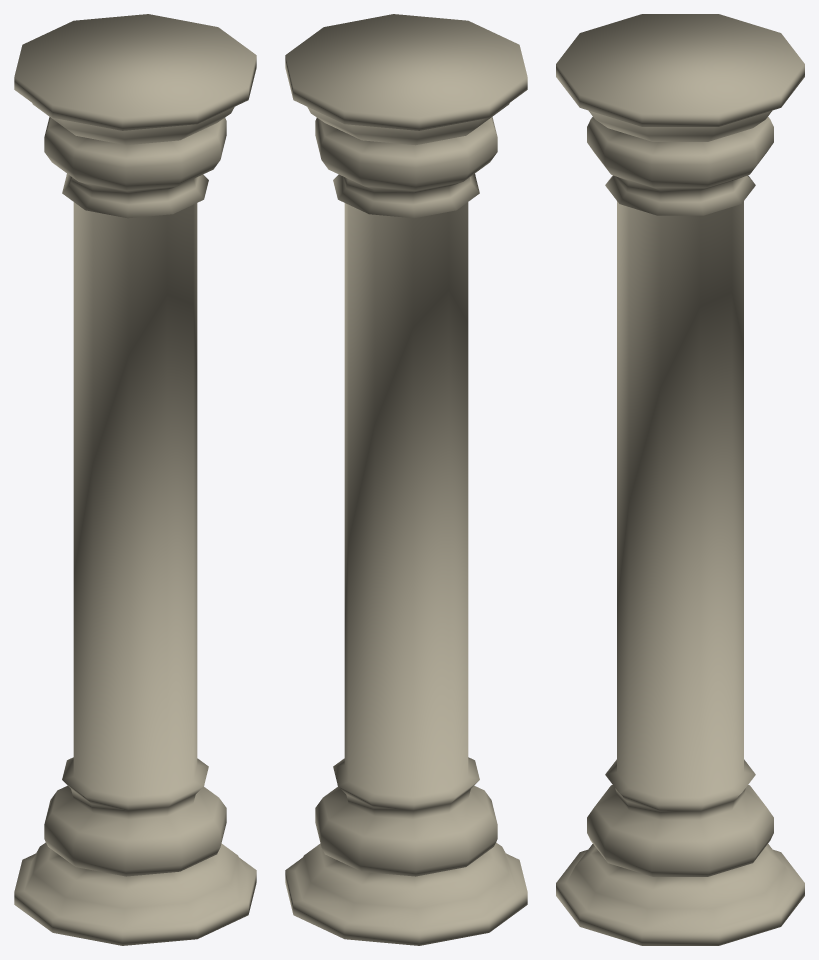
The model's file is Column_Round3.glb.
3 renders of one model, left to right at view 1: azimuth 30°, elevation 25°; view 2: azimuth 150°, elevation 25°; view 3: azimuth 270°, elevation 25°, orthographic.
Parts seen in each view (by area): view 1: Column_Round3; view 2: Column_Round3; view 3: Column_Round3.
Boxes of the visible parts, x1,y1,x2,y2 form: Column_Round3: (14,14,256,945); Column_Round3: (285,14,527,945); Column_Round3: (556,14,804,945).
Size of the model in its own units: 1.4 by 5.43 by 1.47.
